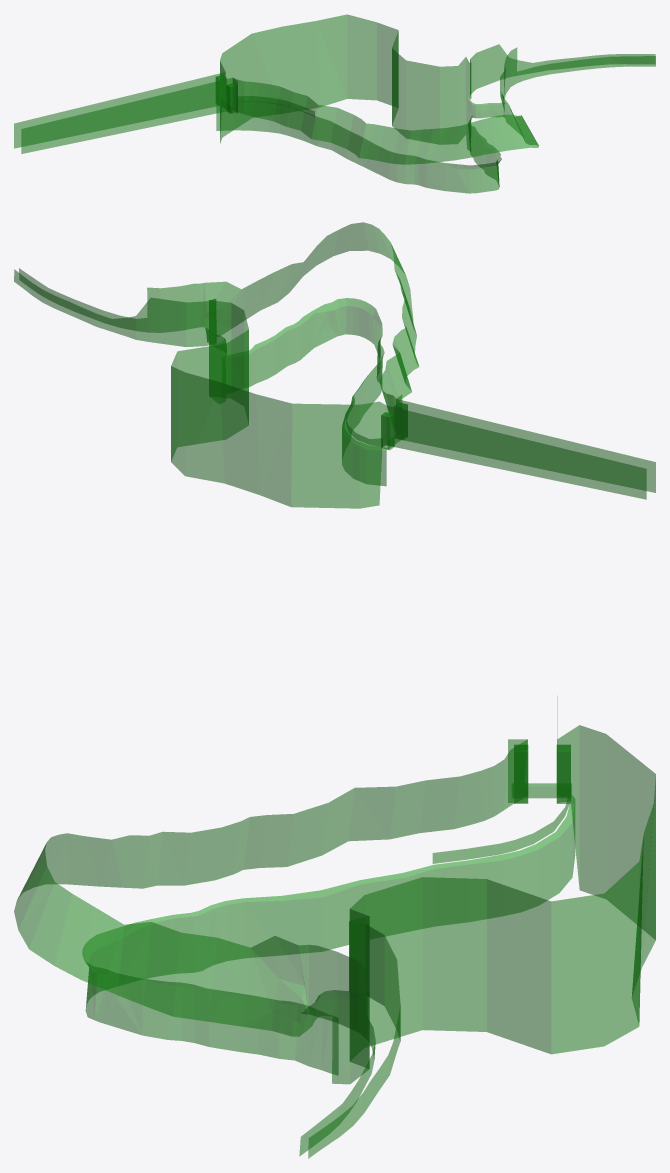
The model's file is wall3.obj.
3 renders of one model, top to bottom at view 1: azimuth 30°, elevation 25°; view 2: azimuth 150°, elevation 25°; view 3: azimuth 270°, elevation 25°, orthographic. The views are drawn at different scales.
Size of the model in its own units: 484 by 81 by 238.
